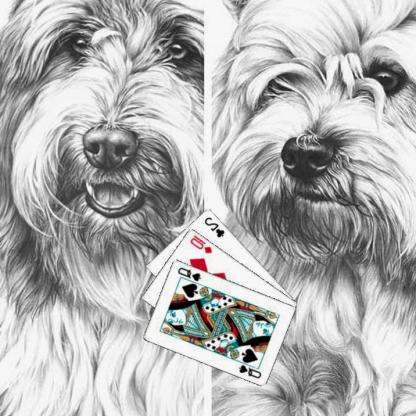10D: (189, 232, 215, 254)
2C: (203, 214, 228, 239)
QS: (177, 264, 204, 283), (238, 362, 264, 379)
